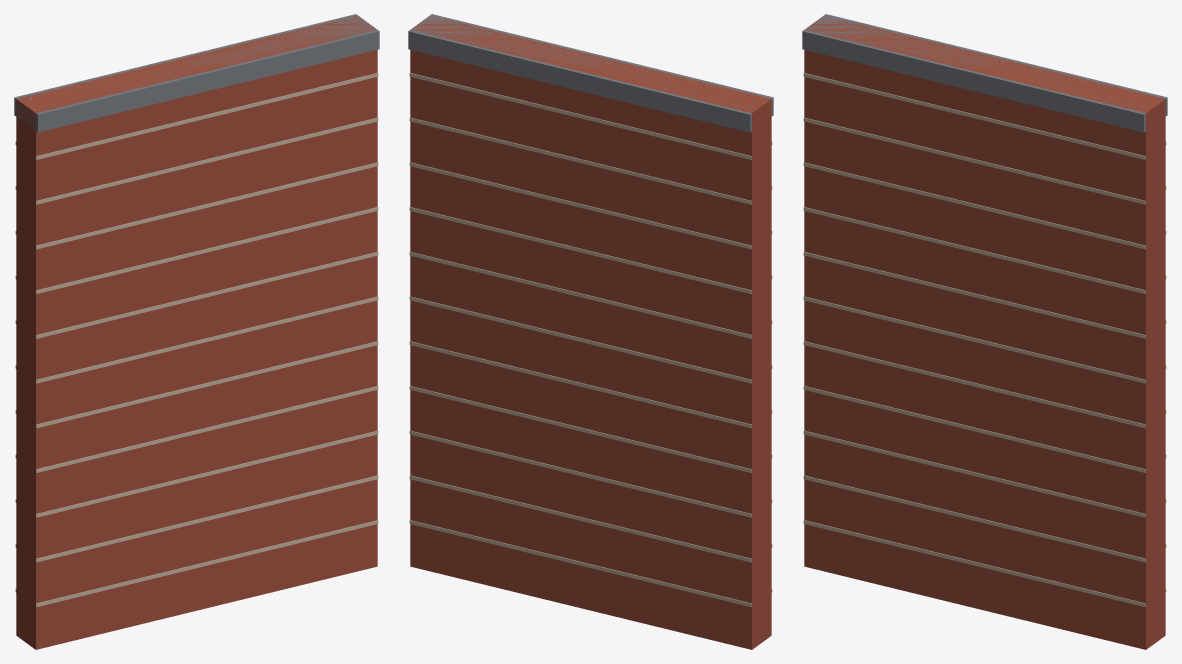
Rendered from wall_brick_2m.glb.
The picture shows the model from 3 angles, left to right: view 1: azimuth 30°, elevation 25°; view 2: azimuth 150°, elevation 25°; view 3: azimuth 330°, elevation 25°; orthographic projection.
Parts seen in each view (by area): view 1: wall_brick_2m; view 2: wall_brick_2m; view 3: wall_brick_2m.
Boxes of the visible parts, x1,y1,x2,y2 form: wall_brick_2m: (14, 14, 379, 649); wall_brick_2m: (408, 14, 773, 649); wall_brick_2m: (802, 14, 1167, 649).
Bounding box in the file's own units: 2 × 3 × 0.24.
